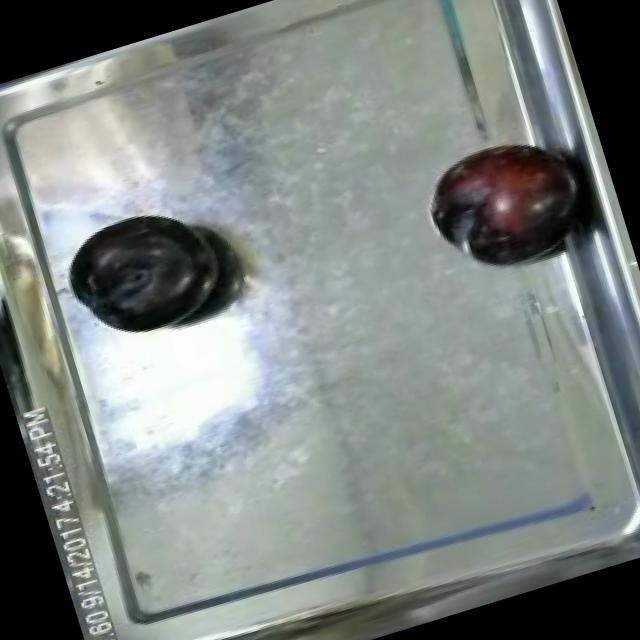Fruit: (408, 114, 606, 290), (53, 191, 237, 357)
